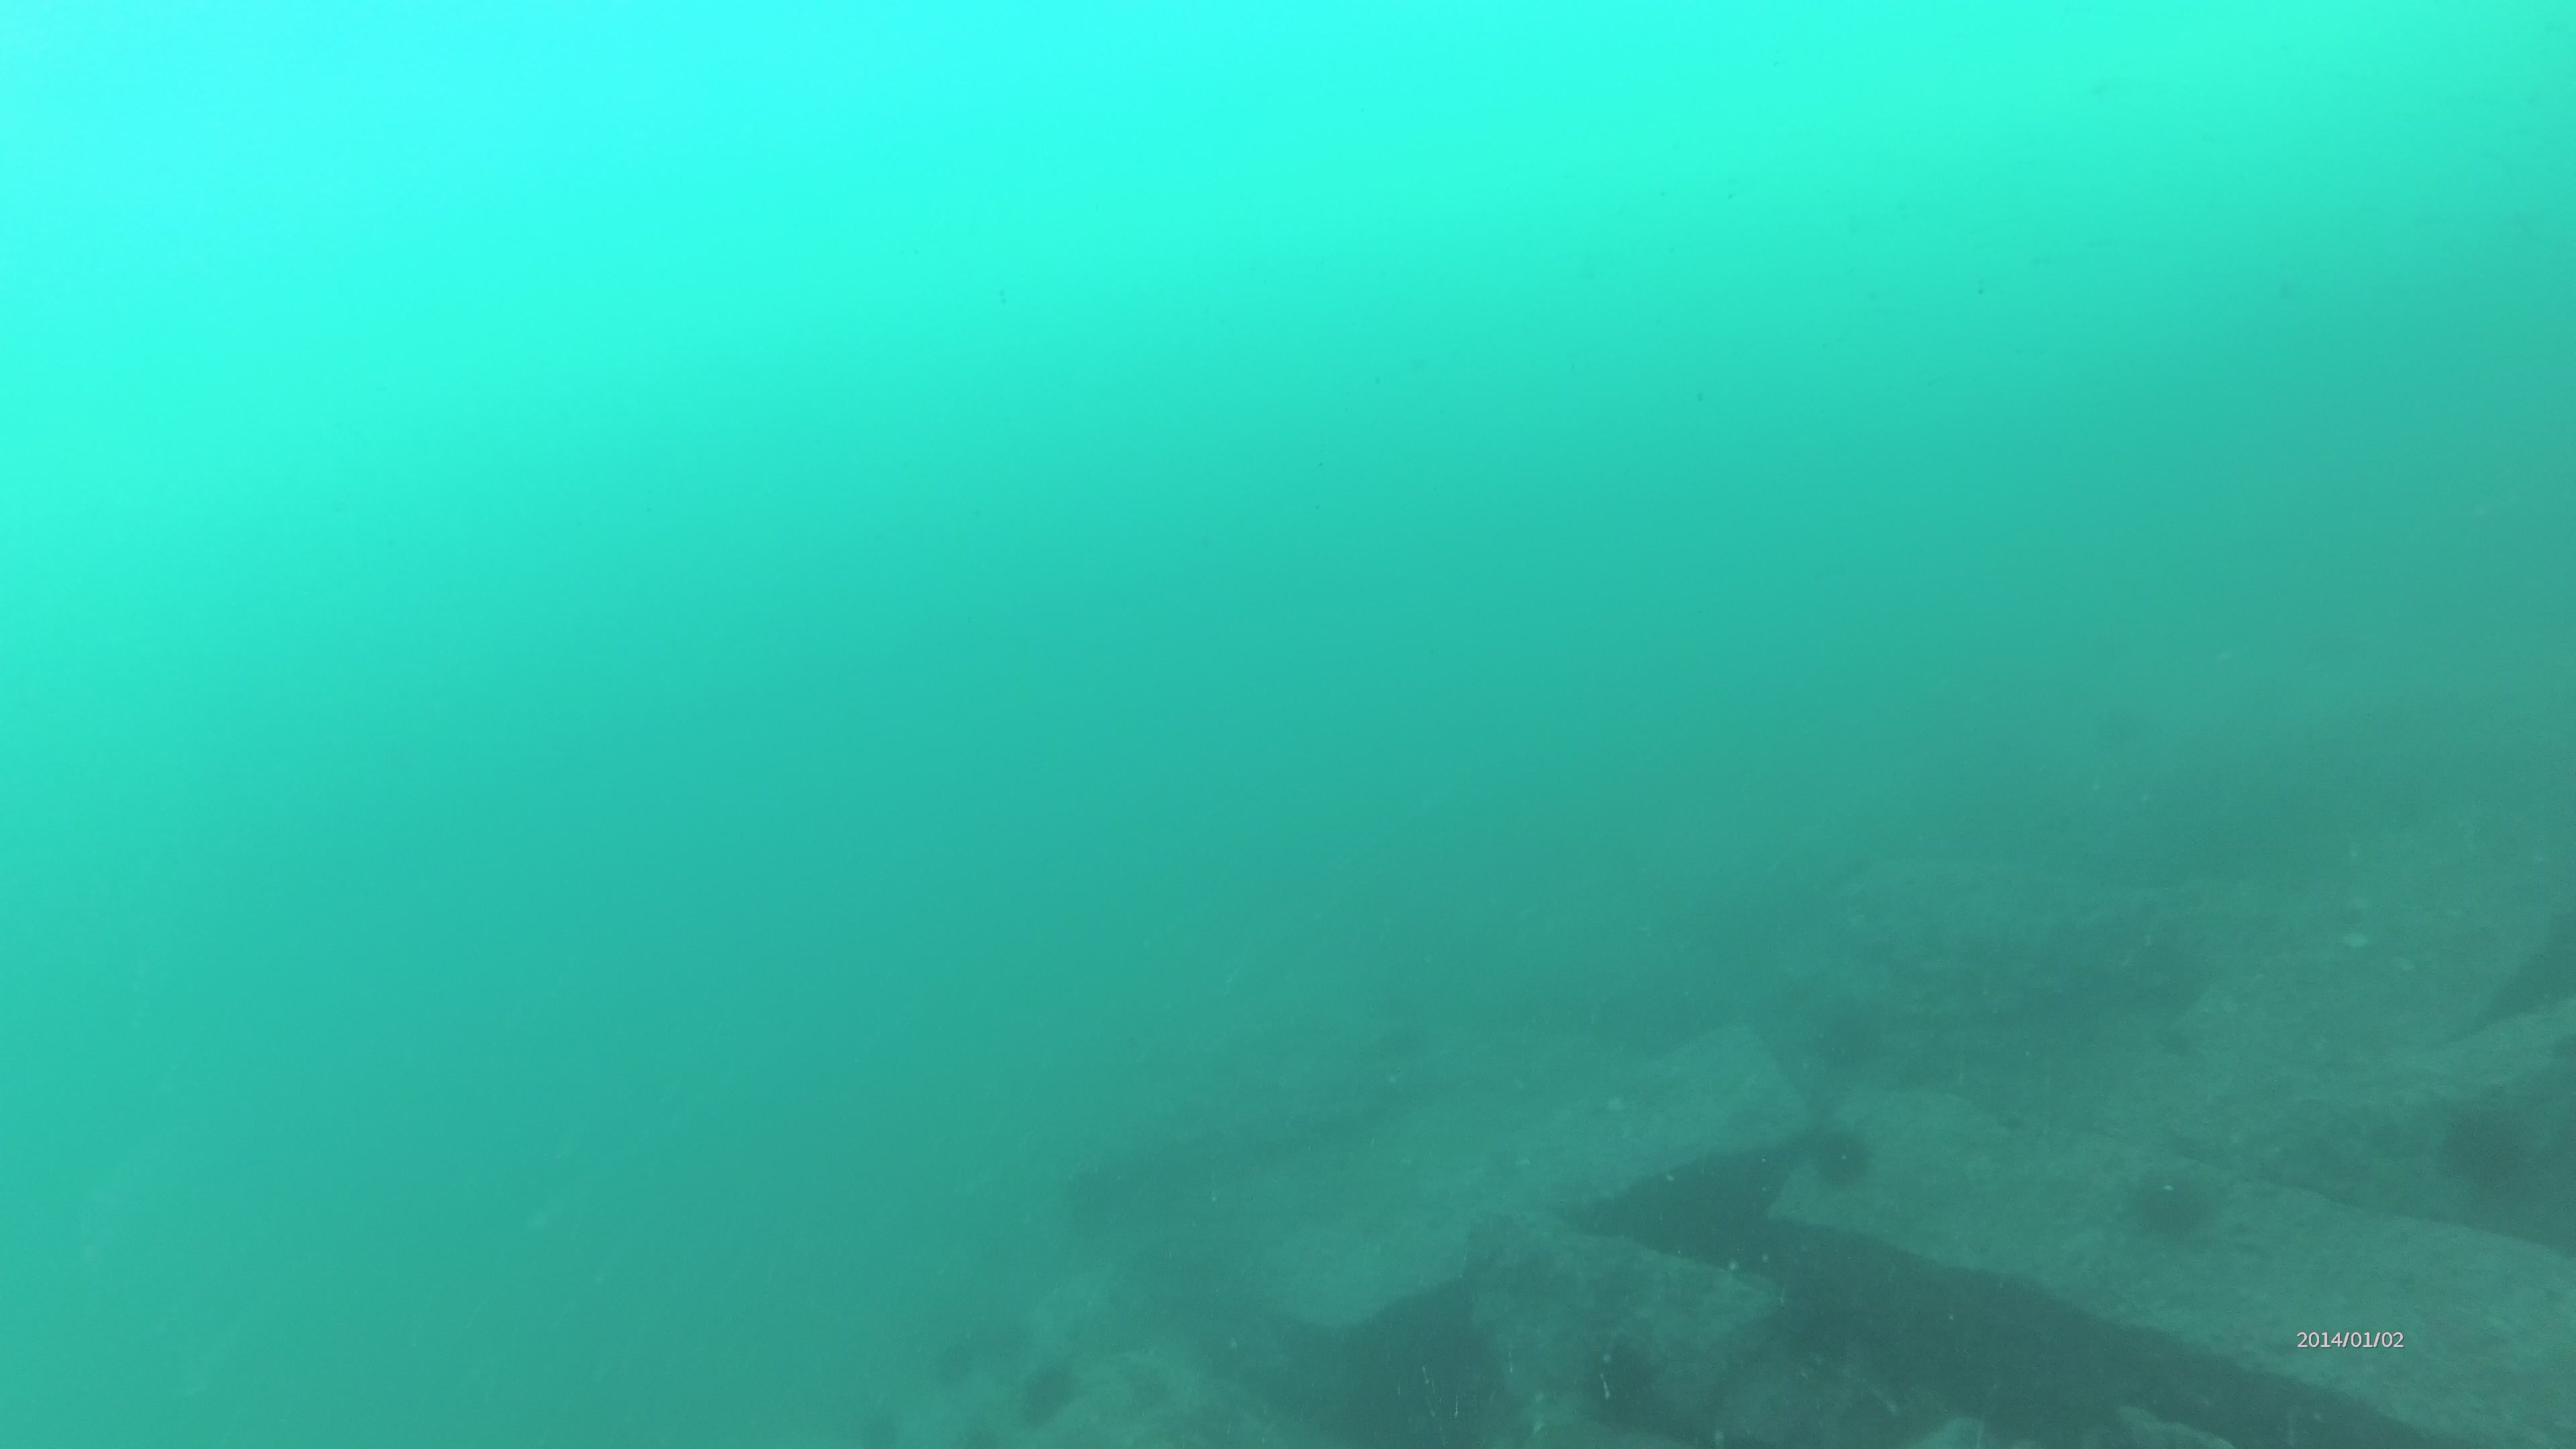echinus: (2436, 1099, 2525, 1180), (2125, 1171, 2213, 1253), (1819, 1132, 1868, 1192)
